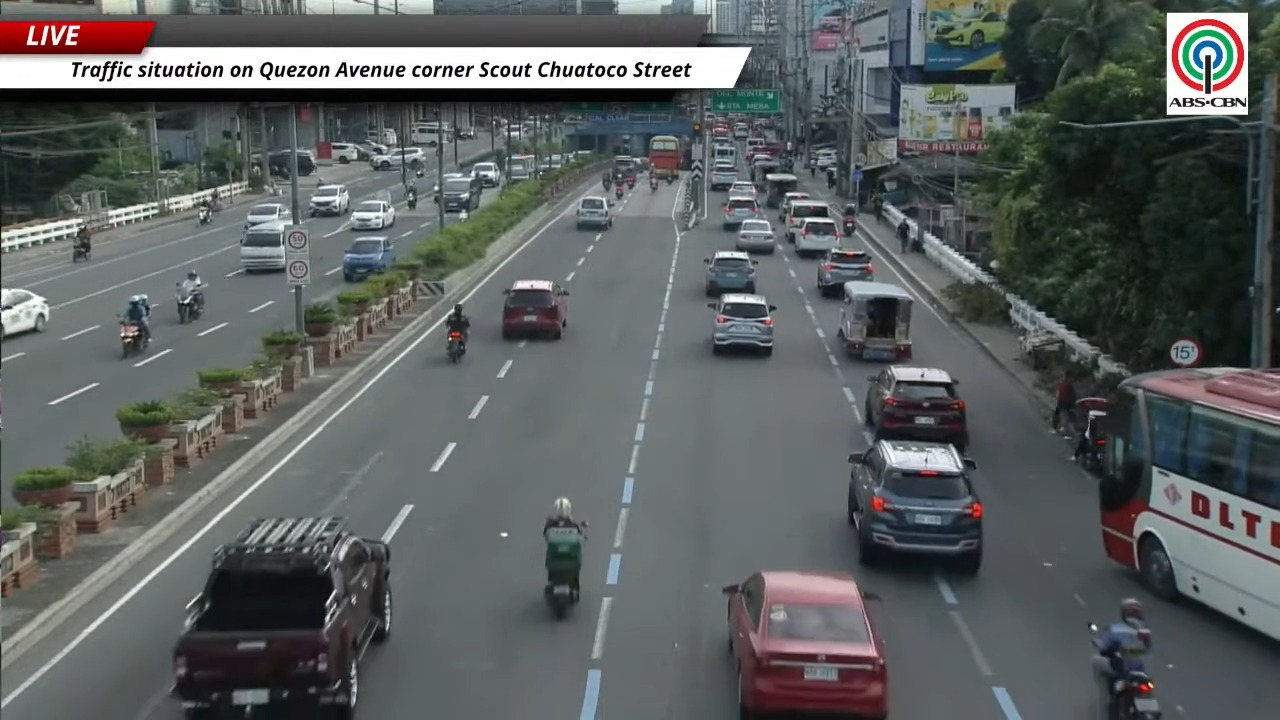bus: (1099, 368, 1279, 639), (648, 135, 681, 179)
car: (171, 517, 392, 718), (722, 571, 888, 719), (847, 440, 982, 574), (864, 366, 968, 451), (708, 293, 776, 355), (501, 280, 568, 339), (817, 247, 873, 296), (932, 12, 1005, 49), (704, 250, 757, 296), (342, 236, 395, 281), (0, 290, 49, 337), (784, 199, 830, 243), (792, 217, 840, 256), (439, 174, 482, 212), (308, 184, 350, 216), (349, 200, 395, 229), (267, 149, 316, 176), (735, 220, 775, 253), (370, 147, 426, 170), (722, 196, 760, 229), (244, 203, 291, 229), (576, 196, 612, 229), (778, 191, 810, 220), (709, 160, 738, 191), (472, 162, 500, 187), (331, 142, 363, 163), (358, 142, 389, 159), (728, 180, 757, 196), (815, 150, 837, 170), (441, 171, 471, 181), (733, 122, 750, 139), (455, 127, 476, 139)
motorcycle: (1103, 669, 1162, 719), (1072, 396, 1109, 474), (544, 573, 579, 619), (120, 321, 147, 358), (176, 289, 200, 322), (446, 331, 464, 362), (73, 243, 90, 262), (842, 217, 855, 236), (198, 207, 211, 225), (406, 192, 417, 210), (649, 178, 658, 192), (615, 185, 623, 200), (626, 176, 635, 188), (602, 178, 610, 190), (666, 175, 674, 184)
